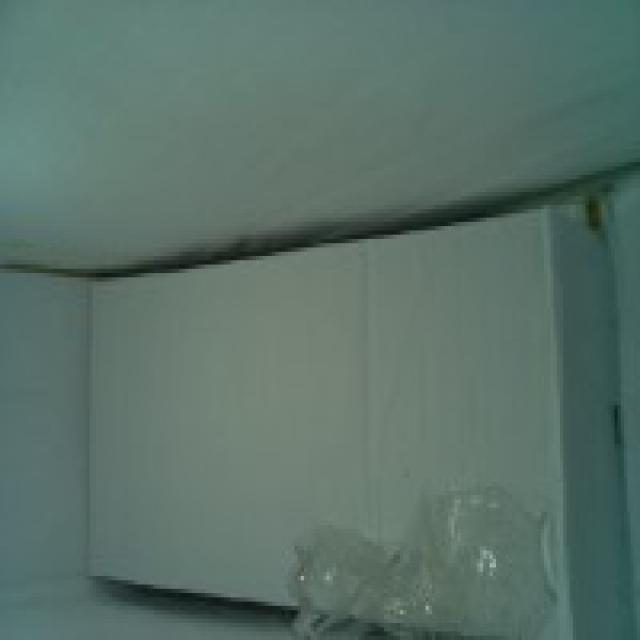plastic bottle: (266, 512, 562, 640)
